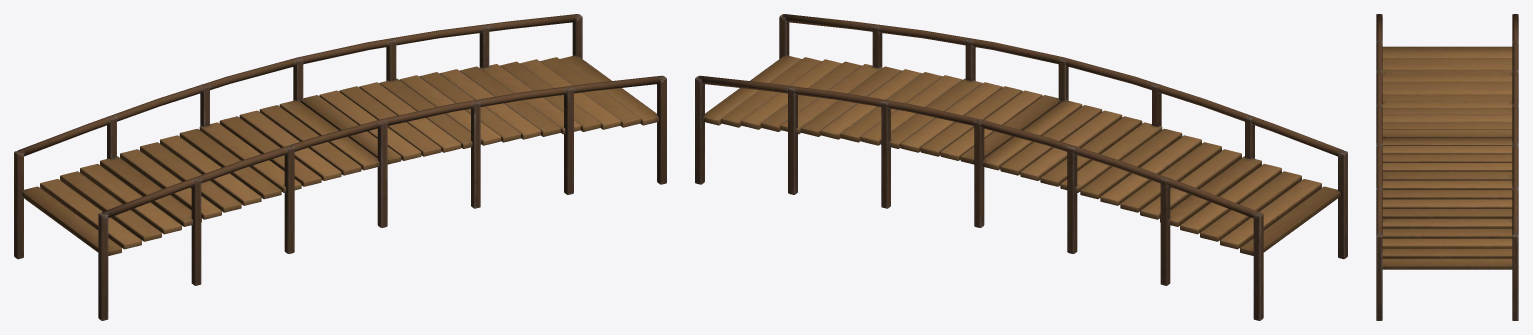
File: bridge.glb
3 views of the same model, side by side, from view 1: azimuth 30°, elevation 25°; view 2: azimuth 150°, elevation 25°; view 3: azimuth 270°, elevation 25° (orthographic). The views are drawn at different scales.
Parts seen in each view (by area): view 1: bridge; view 2: bridge; view 3: bridge.
Part boxes in pixels (box(x1,y1,x2,y2)): bridge: box(14, 14, 666, 320); bridge: box(695, 14, 1347, 320); bridge: box(1376, 14, 1518, 320).
Bounding box in the file's own units: 13.16 × 2.92 × 3.56.
1 material, 1 textured.
